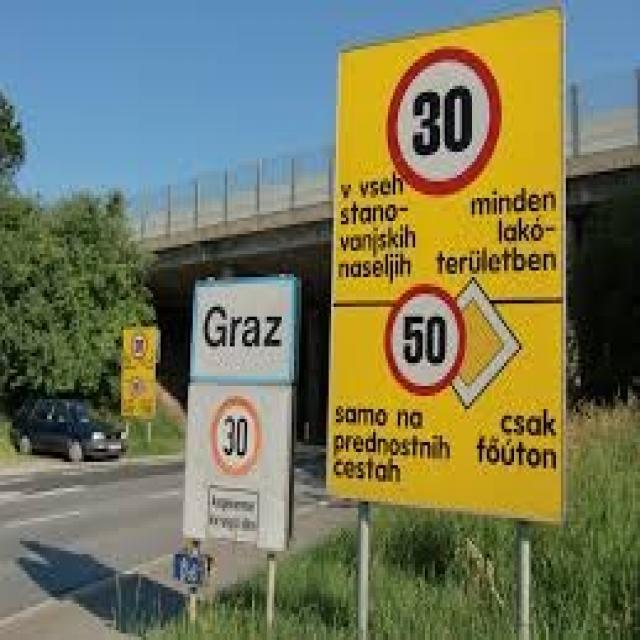speed_limit_30: (383, 39, 507, 198), (209, 396, 265, 483)
